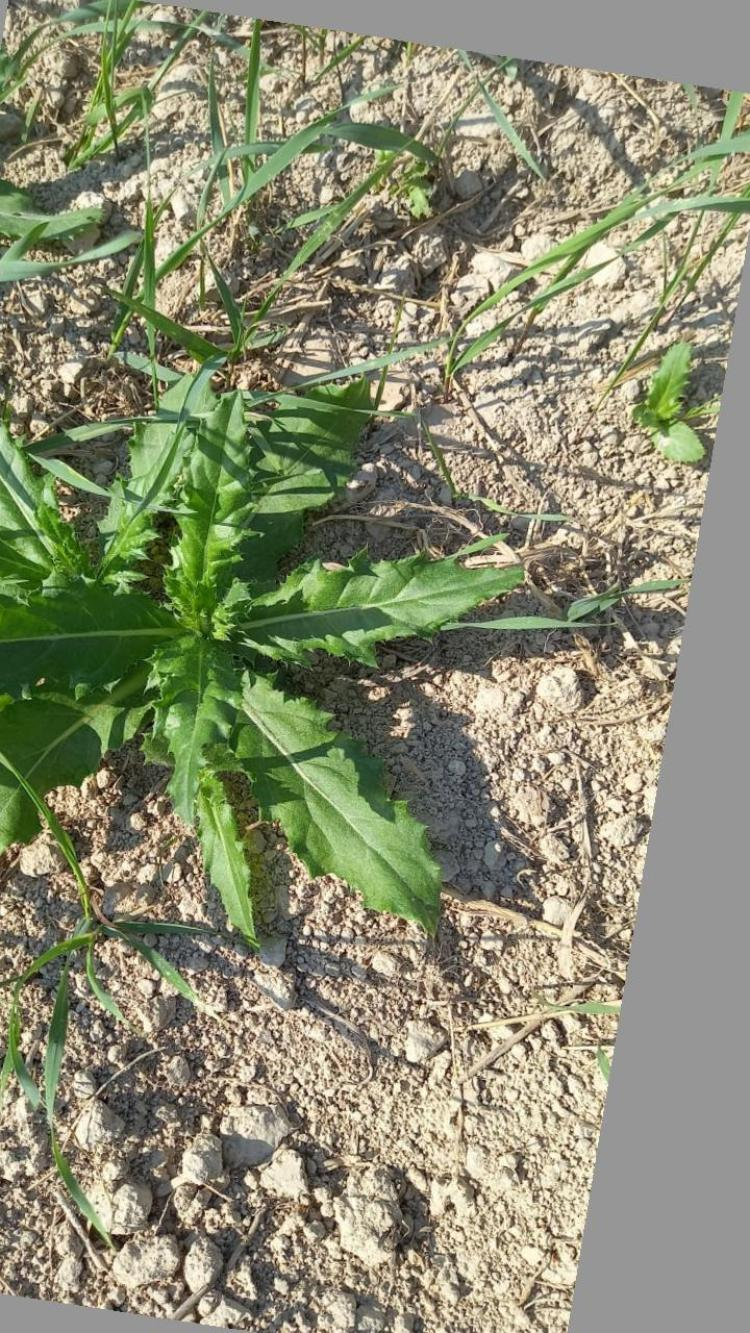osot: (0, 344, 529, 950)
